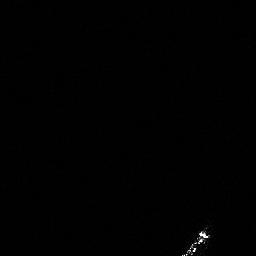ship: (178, 221, 214, 256)
